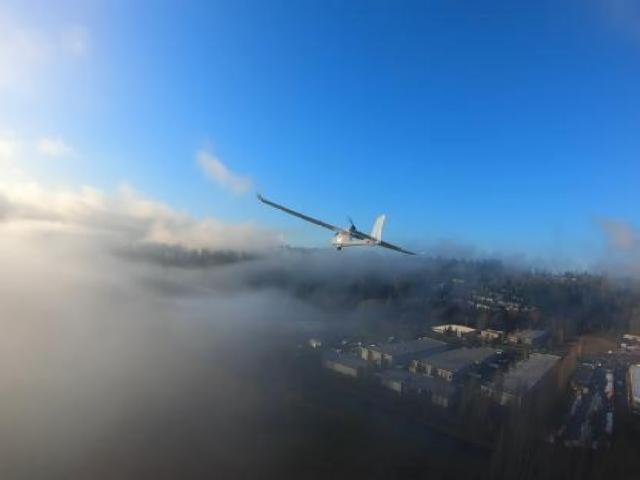uav: (248, 184, 427, 268)
